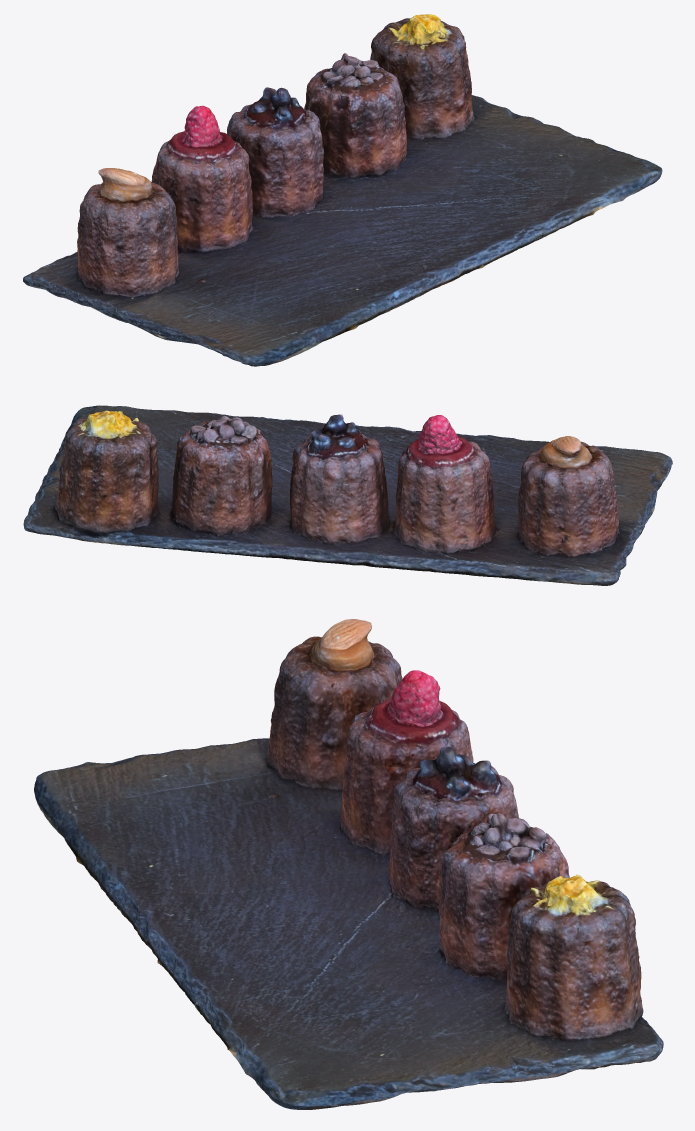
File: 4.ta.keik.gonbadi.jadid.glb
3 views of the same model, one above another, from view 1: azimuth 30°, elevation 25°; view 2: azimuth 150°, elevation 25°; view 3: azimuth 270°, elevation 25° (orthographic). The views are drawn at different scales.
Parts seen in each view (by area): view 1: object 1; view 2: object 1; view 3: object 1.
Boxes of the visible parts, x1,y1,x2,y2 form: object 1: (23, 14, 662, 366); object 1: (23, 405, 672, 585); object 1: (34, 619, 663, 1109).
Bounding box in the file's own units: 0.339 × 0.0706 × 0.2454.
2 materials, 1 textured.
